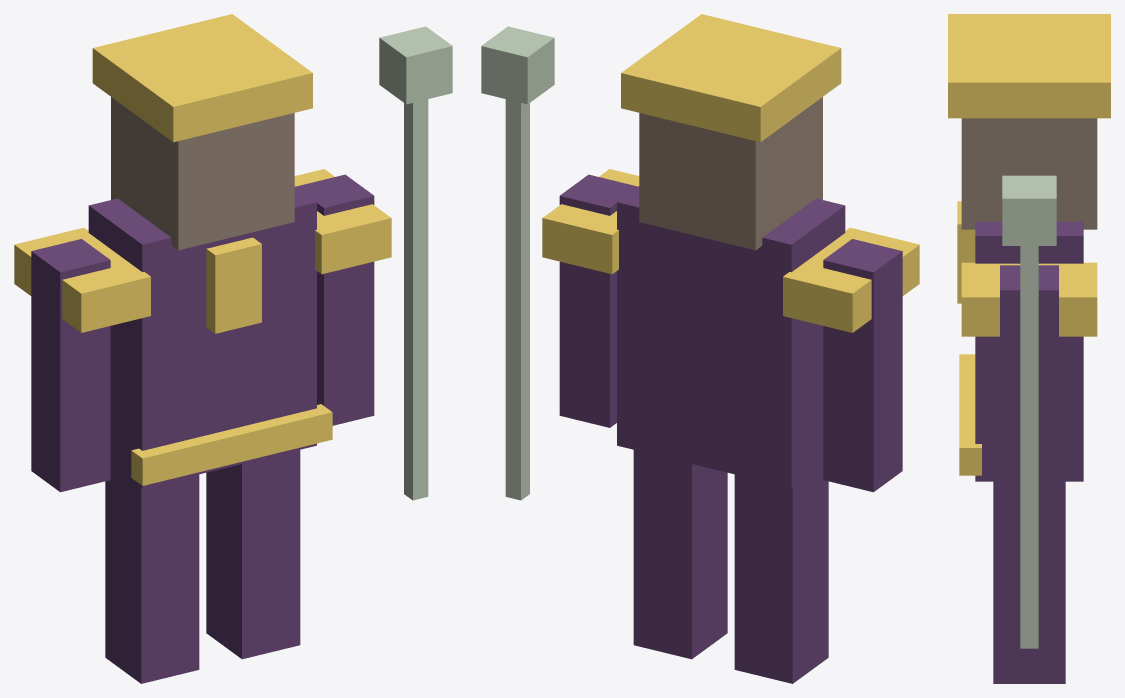
Rendered from 03_brant_voxmere_keeper_from_reality.glb.
The picture shows the model from 3 angles, left to right: view 1: azimuth 30°, elevation 25°; view 2: azimuth 150°, elevation 25°; view 3: azimuth 270°, elevation 25°; orthographic projection.
Parts seen in each view (by area): view 1: Brant Voxmere, Keeper from Reality; view 2: Brant Voxmere, Keeper from Reality; view 3: Brant Voxmere, Keeper from Reality.
Part boxes in pixels (left/top/right/bottom): Brant Voxmere, Keeper from Reality: left=14, top=14, right=452, bottom=683; Brant Voxmere, Keeper from Reality: left=481, top=14, right=919, bottom=683; Brant Voxmere, Keeper from Reality: left=948, top=14, right=1110, bottom=683.
Bounding box in the file's own units: 1.05 × 1.51 × 0.3721.
